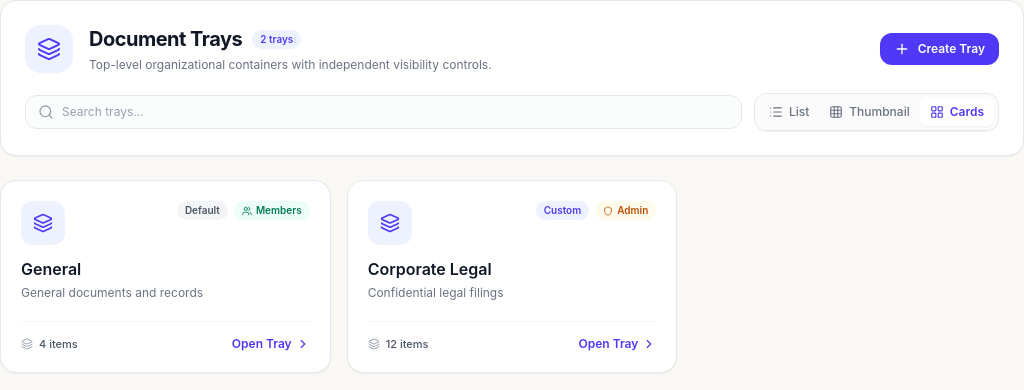
it: TraysOverview - View Mode Switcher (List, Thumbnail, Cards) › switches to List view with table columns
Click the button with aria-label "list view" at [789, 112], box [759,98,819,126]
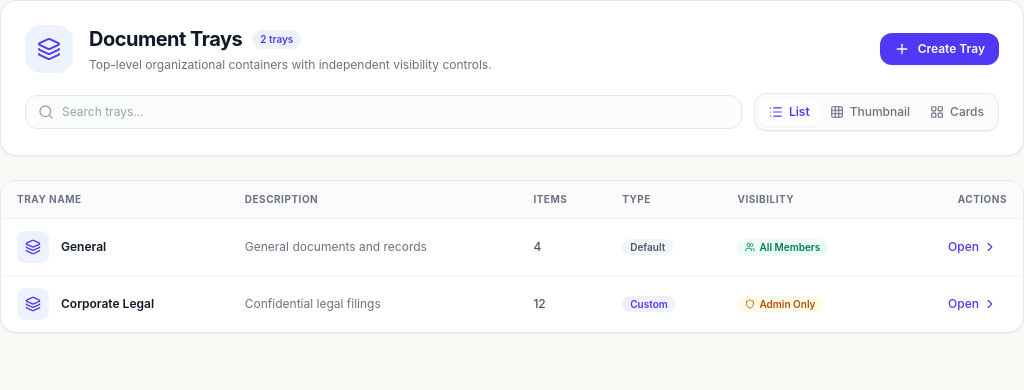
Expected: the column heading "Tray Name" is shown, [1,181,229,219]
Expected: the column heading "Description" is shown, [229,181,517,219]
Expected: the column heading "Type" is shown, [606,181,722,219]
